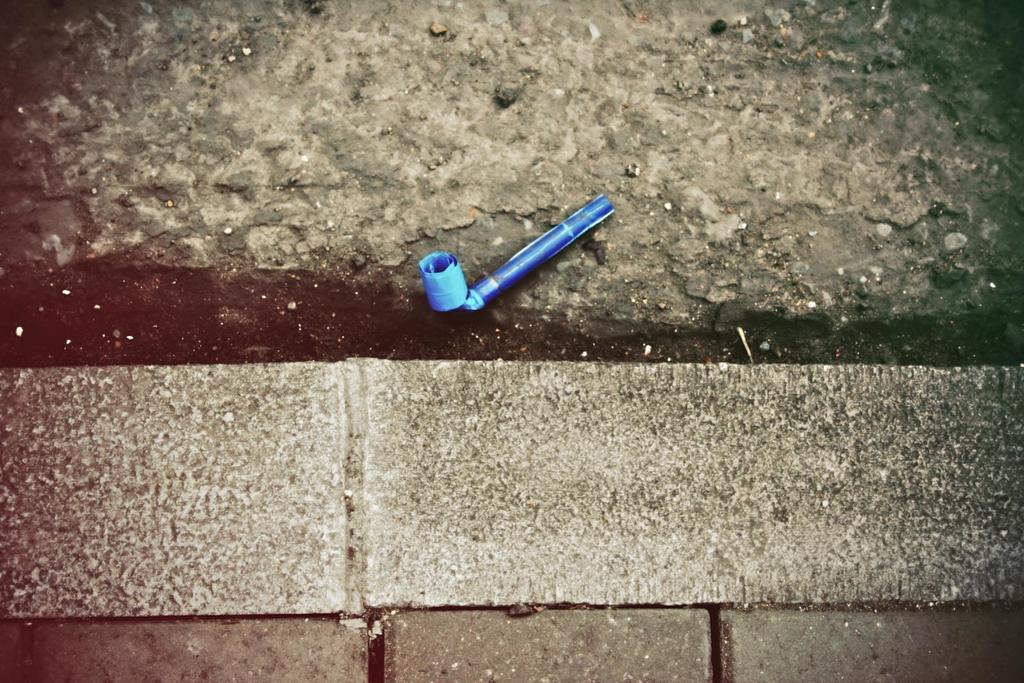Pen: (462, 194, 615, 311)
